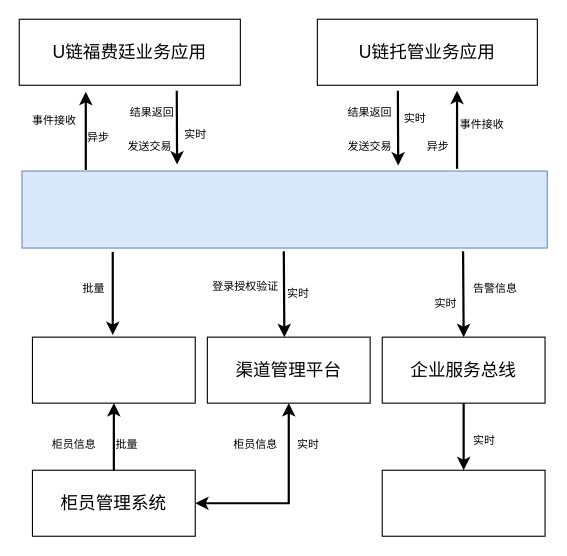
The diagram is 567 pixels wide and 556 high, and some of its shapes have lost their labels. The centre of each missing label's shape, as x and y in pixels:
"企业数据总线" belongs at point 113,369.
"区块链服务平台" belongs at point 284,209.
"短信平台" belongs at point 463,502.
